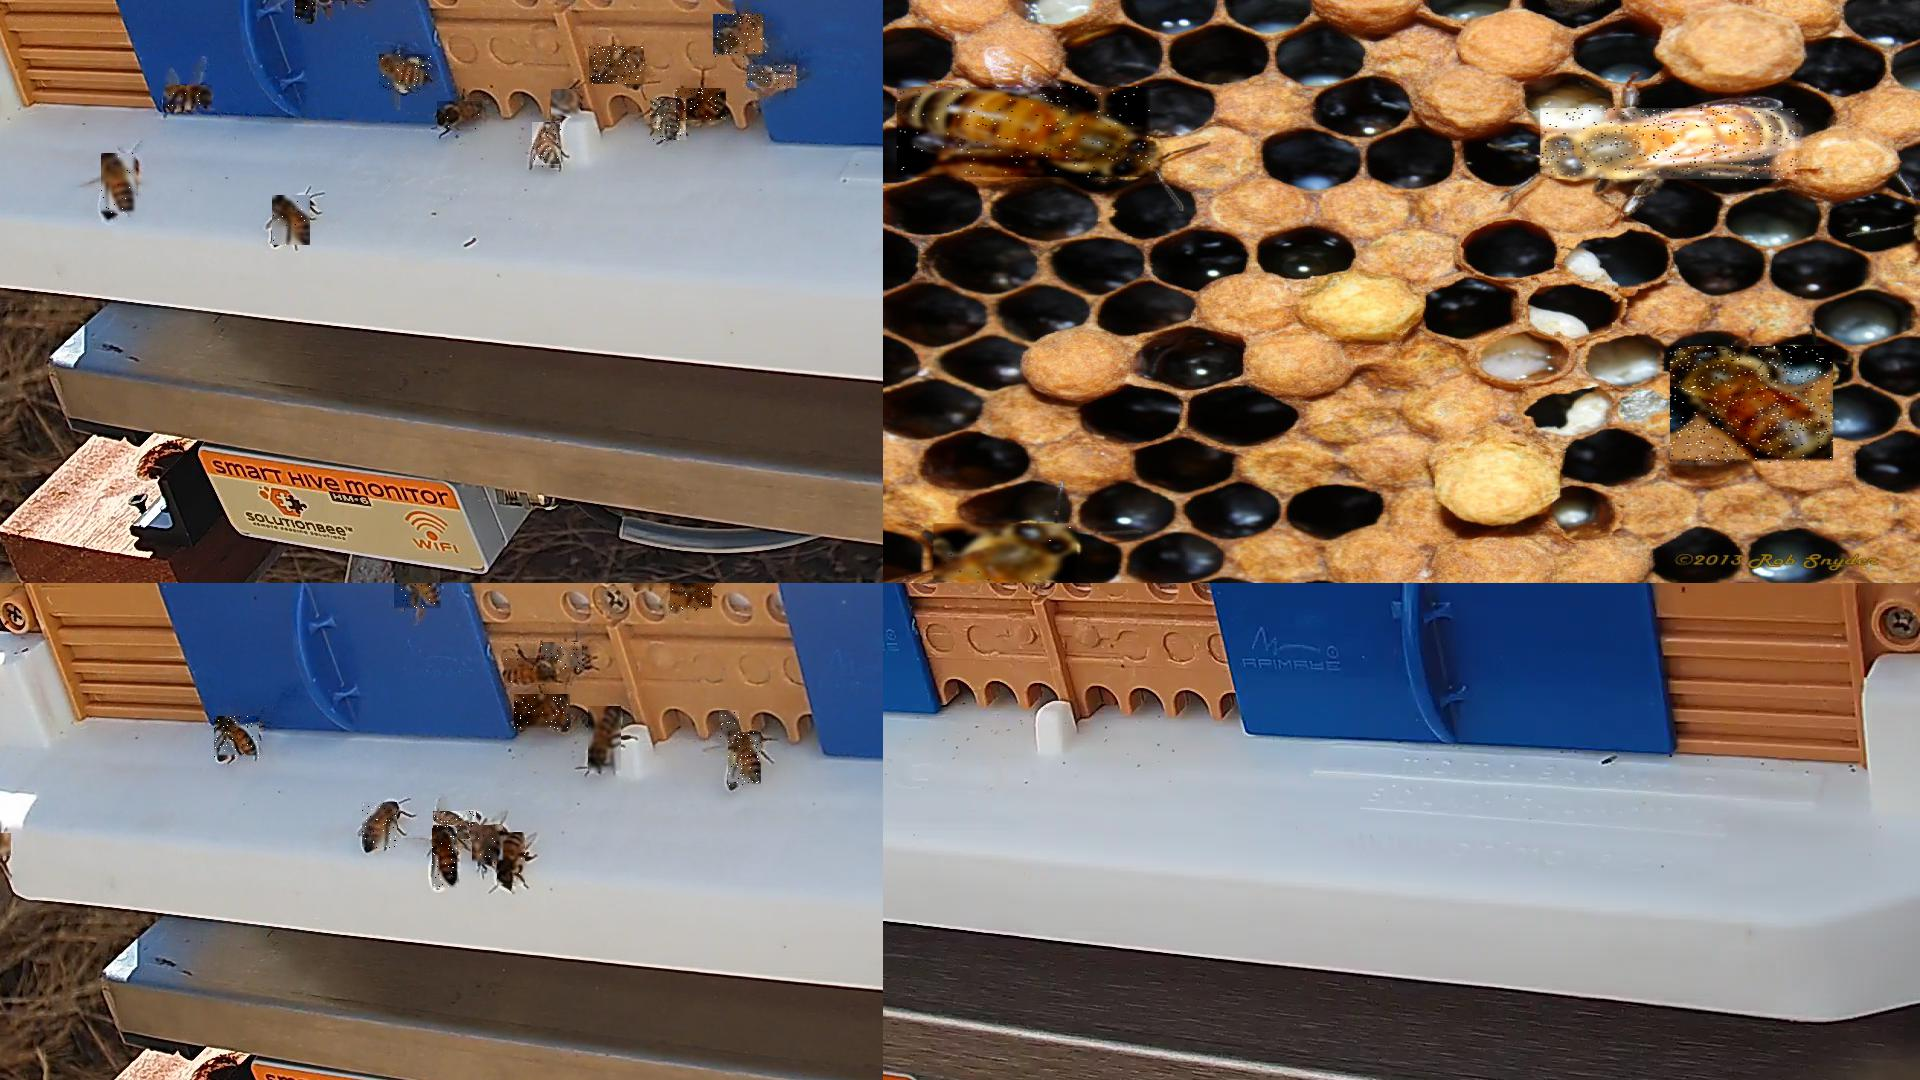bee: (898, 87, 1154, 178), (1669, 347, 1836, 464), (1542, 108, 1800, 181), (934, 524, 1083, 582), (713, 15, 767, 58), (588, 707, 622, 774), (102, 154, 138, 216), (272, 195, 311, 247), (514, 695, 571, 731), (214, 717, 260, 760), (728, 733, 762, 787), (676, 88, 727, 121), (363, 803, 398, 849), (497, 833, 526, 887), (433, 829, 458, 891), (434, 812, 481, 844), (504, 658, 558, 684), (394, 583, 443, 612), (531, 123, 562, 169), (438, 102, 485, 131), (748, 65, 800, 90), (670, 583, 713, 612), (472, 825, 504, 865), (164, 86, 214, 109), (542, 644, 583, 671), (553, 90, 583, 119), (719, 711, 740, 742), (295, 0, 315, 22), (0, 833, 13, 858)
pollenbee: (589, 46, 645, 86), (380, 54, 433, 92), (650, 98, 687, 141)
